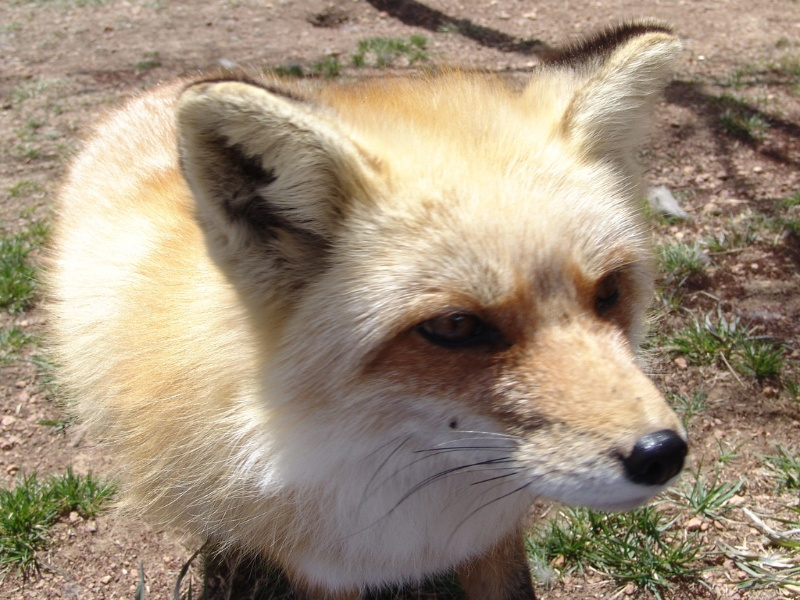fox: (52, 32, 685, 591)
